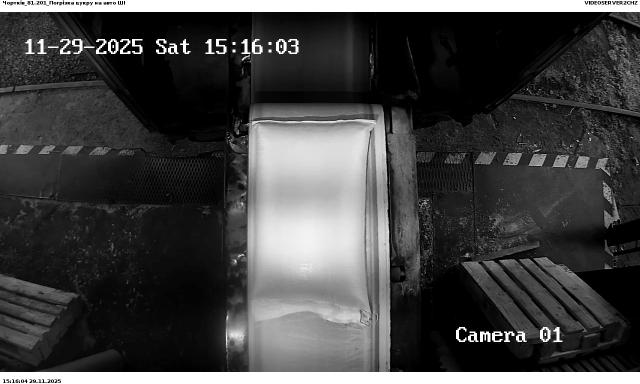bag: (250, 119, 376, 326)
